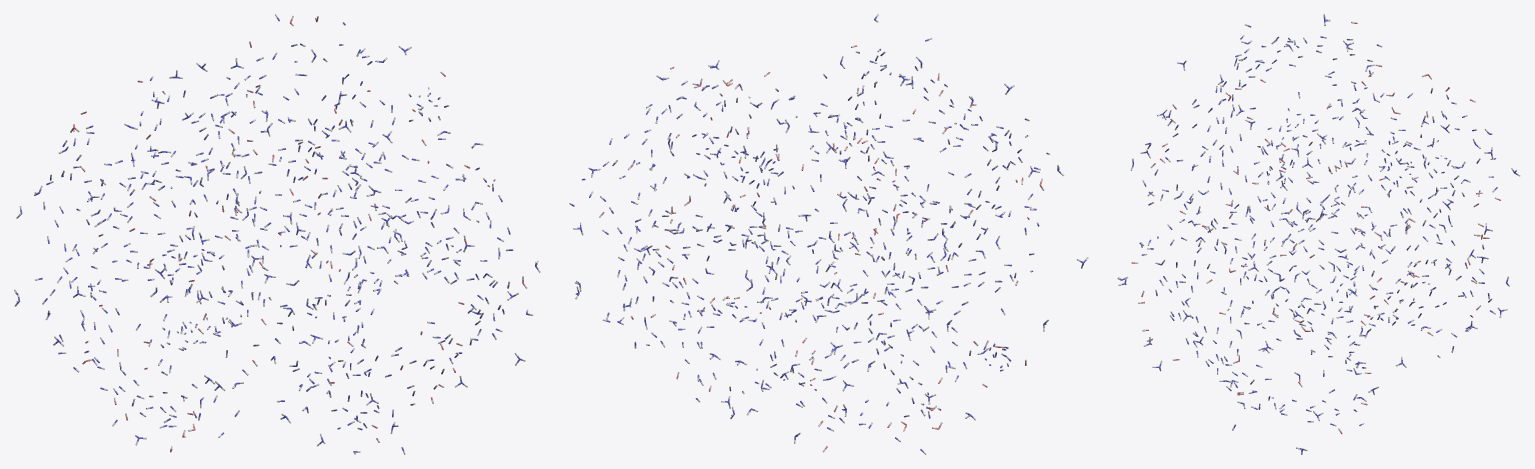
The model's file is 4hhb__lines__default__H.glb.
3 renders of one model, left to right at view 1: azimuth 30°, elevation 25°; view 2: azimuth 150°, elevation 25°; view 3: azimuth 270°, elevation 25°, orthographic. The views are drawn at different scales.
Visible parts, largest first — view 1: Renderer Node; view 2: Renderer Node; view 3: Renderer Node.
Boxes of the visible parts, bbox=[...] form: Renderer Node: bbox=[14, 14, 540, 454]; Renderer Node: bbox=[569, 14, 1088, 454]; Renderer Node: bbox=[1117, 14, 1520, 454].
Size of the model in its own units: 68.15 by 58.37 by 58.77.
